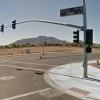Traffic light: (67, 25, 100, 60)
